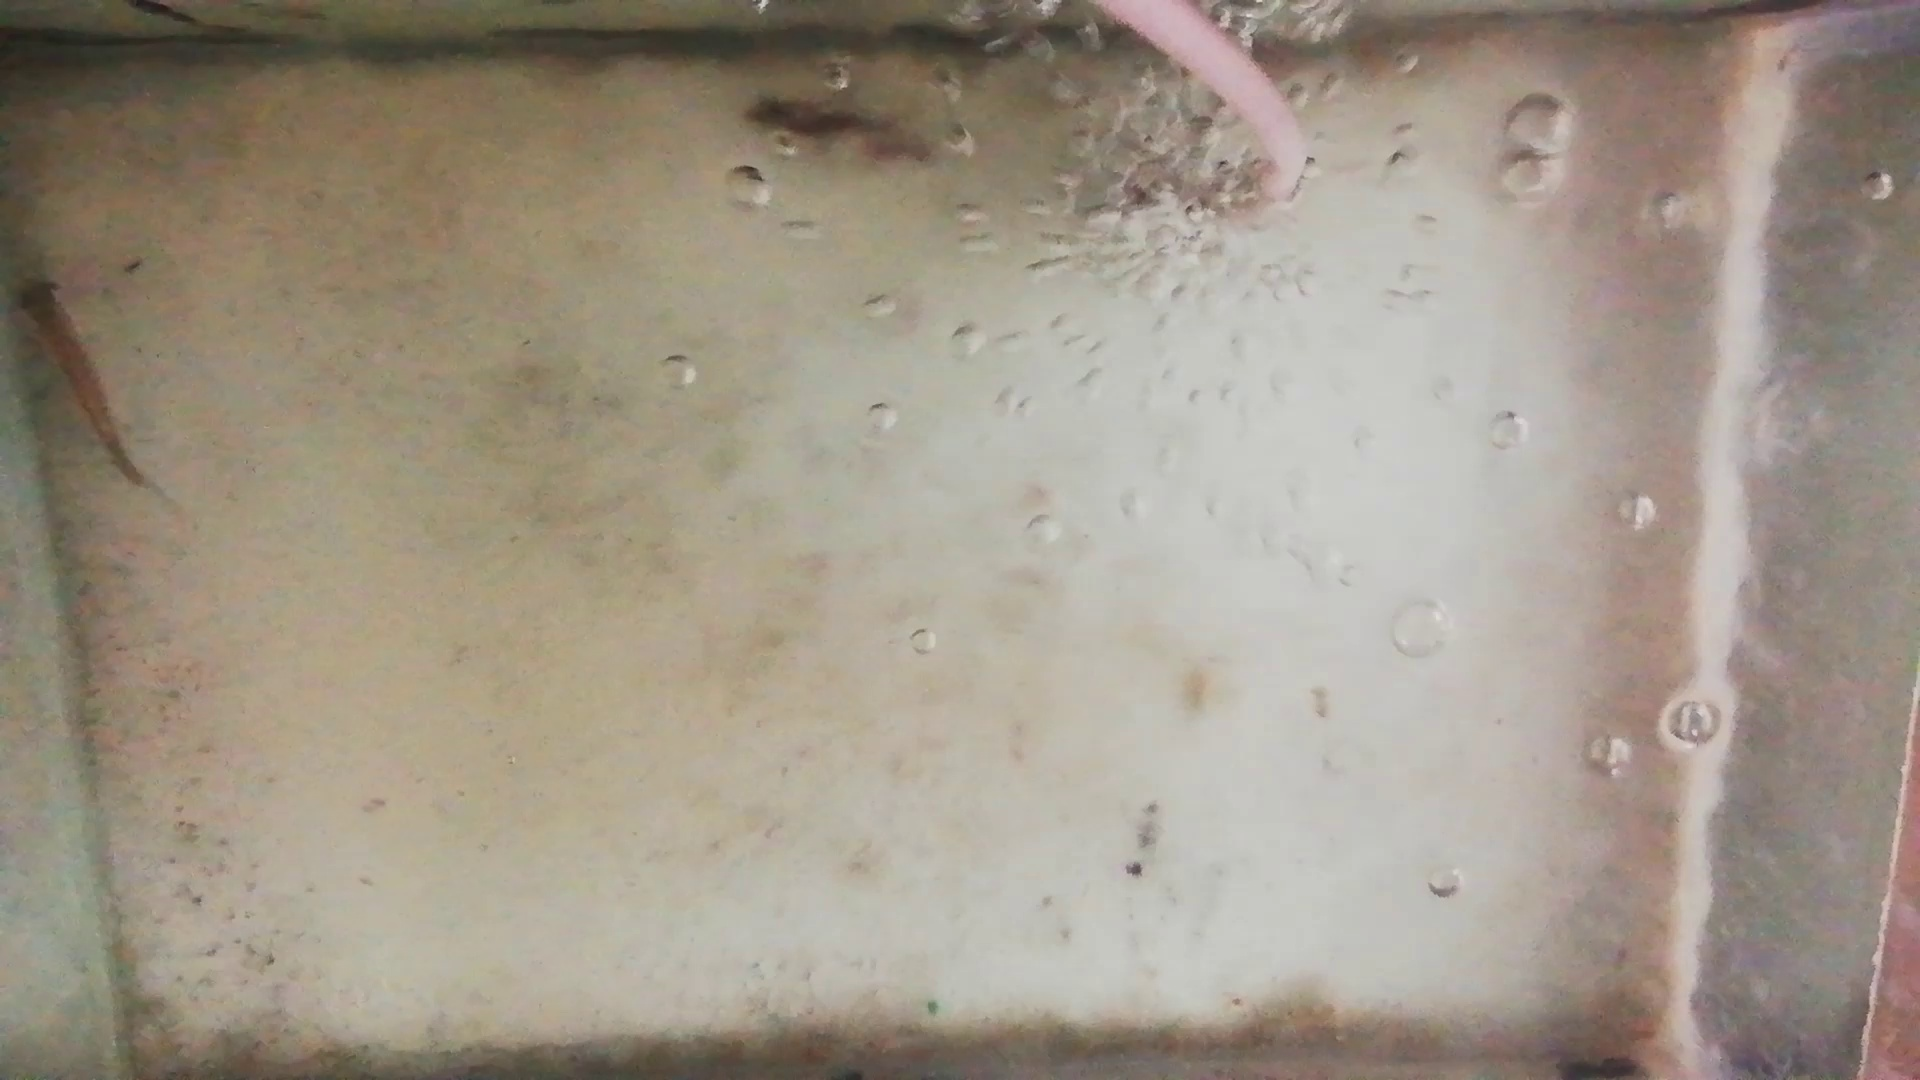fish: (21, 277, 142, 480), (746, 95, 940, 157)
